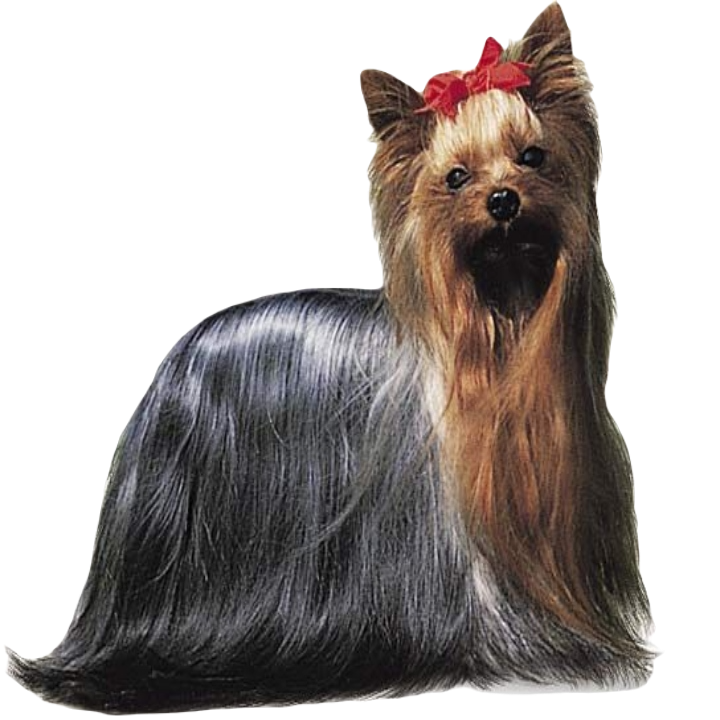Dog: (7, 0, 663, 718)
